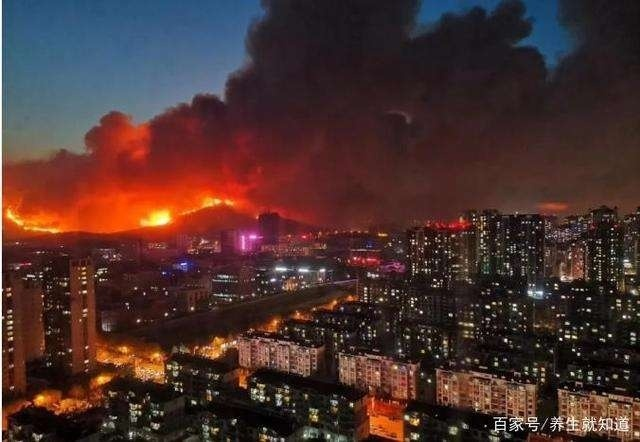fire: (134, 192, 233, 227), (5, 205, 68, 235)
